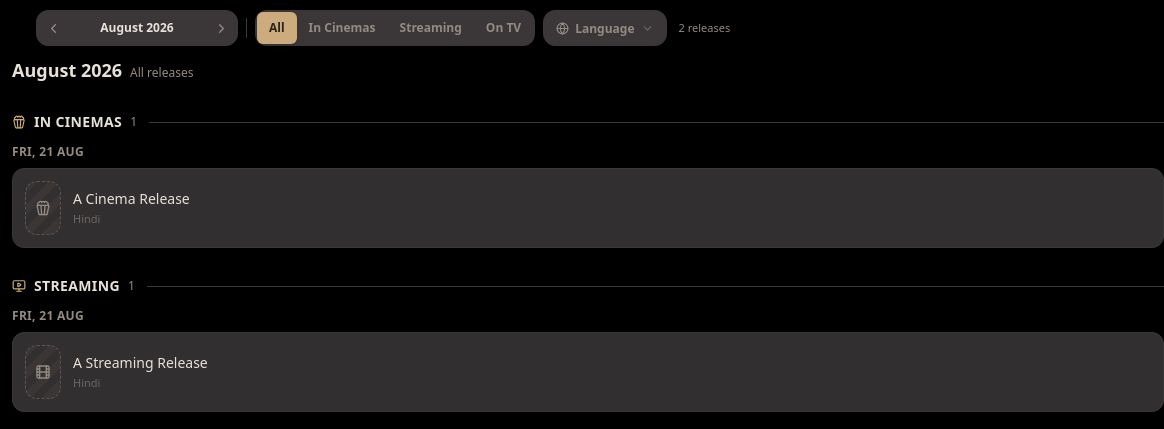
Test case: Calendar release-kind tabs › In Cinemas hides streaming and TV-network entries
Expected: the text "A Cinema Release" is shown, [73,189,190,208]
Expected: the text "A Streaming Release" is shown, [73,353,208,372]
Click the tab "In Cinemas": (342, 28) [297,12,388,44]
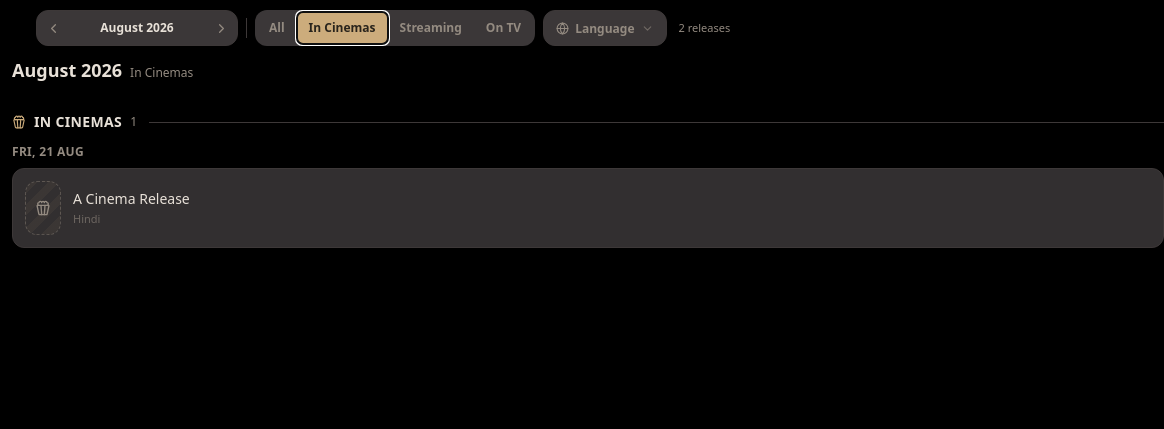
Expected: the text "A Cinema Release" is shown, [73,189,190,208]
Expected: the link "A Streaming Release" is gone
